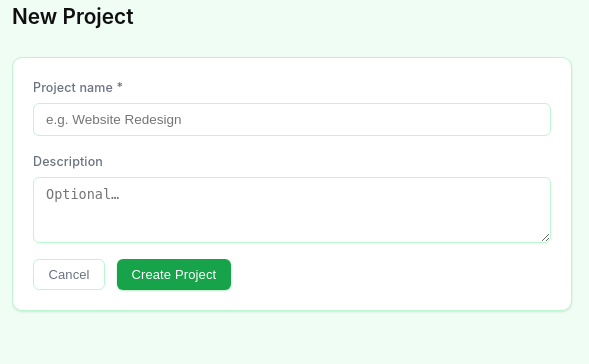
Test case: NewProject › shows error when title is too short
Type "a" into the field labelled "Project name *" at (292, 120), box [33,103,551,136]
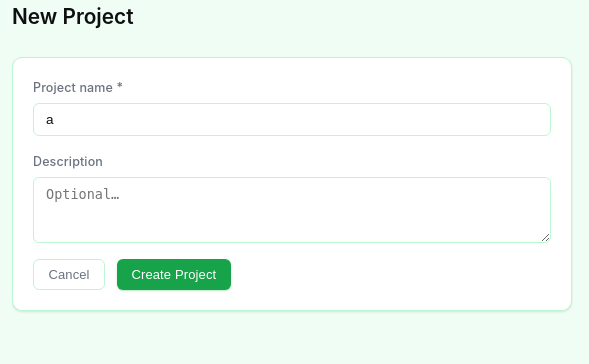
Click the button "Create Project" at (174, 275), box [117,259,231,290]
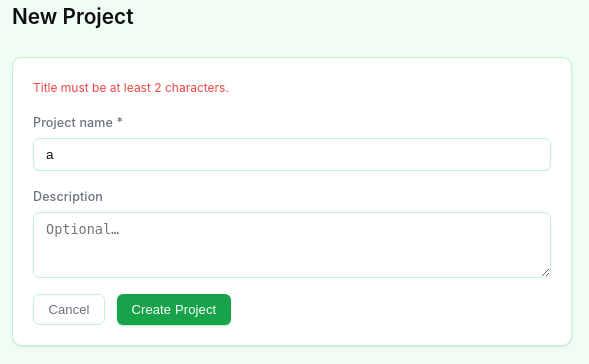
Result: the text "Title must be at least 2 characters." is shown at [33,80,229,95]
